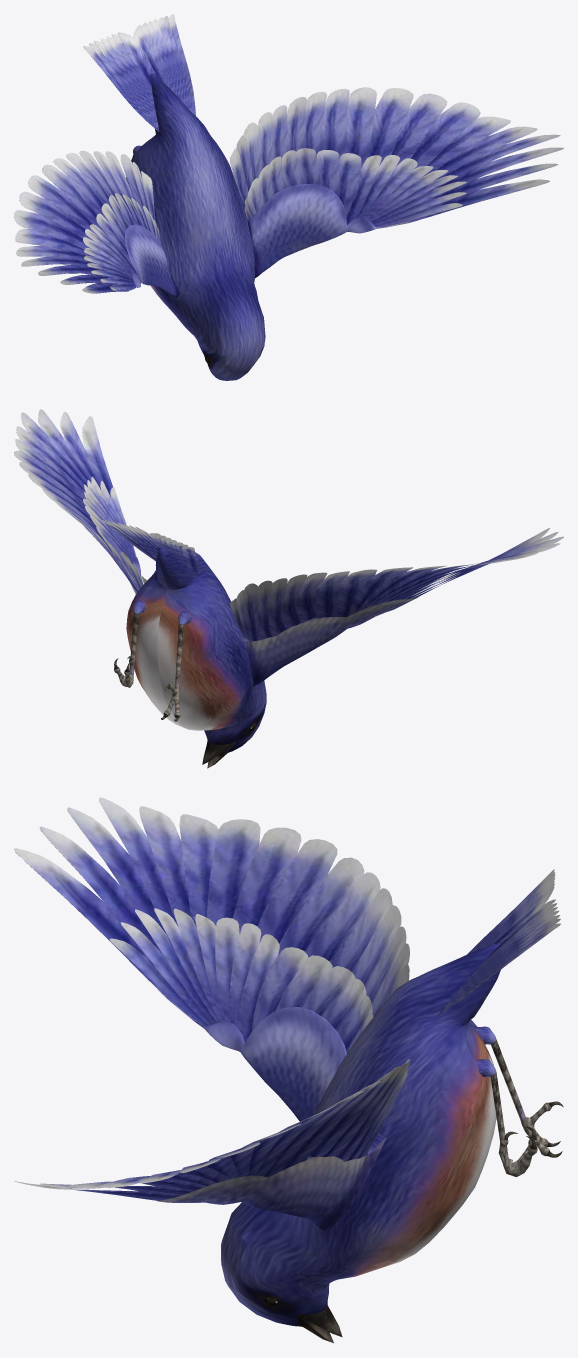
Rendered from bluebird_origin.obj.
3 views of the same model, one above another, from view 1: azimuth 30°, elevation 25°; view 2: azimuth 150°, elevation 25°; view 3: azimuth 270°, elevation 25° (orthographic). The views are drawn at different scales.
Parts seen in each view (by area): view 1: bird_1Figu; view 2: bird_1Figu; view 3: bird_1Figu.
Part boxes in pixels (x1,y1,x2,y2): bird_1Figu: [14, 14, 563, 380]; bird_1Figu: [14, 409, 563, 768]; bird_1Figu: [14, 797, 563, 1343].
Bounding box in the file's own units: 5.65 × 2.99 × 3.37.
Materials: 1 (1 with a texture image).
